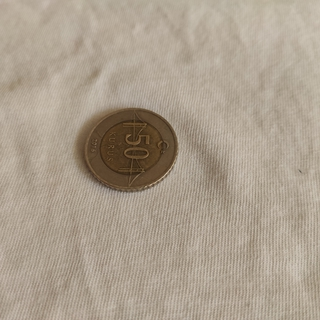50KURUS: (82, 105, 180, 193)
